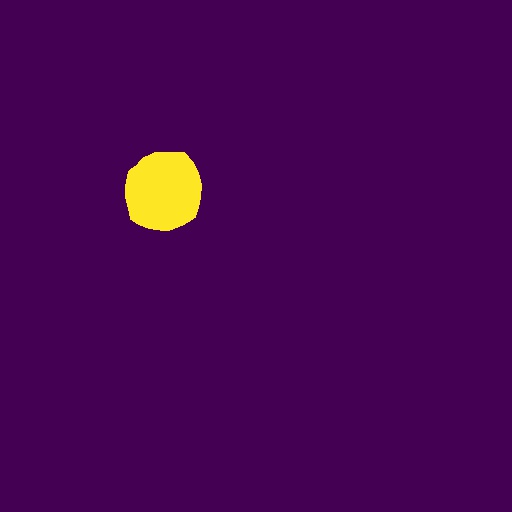Gliomia_tumour: (125, 152, 202, 231)
